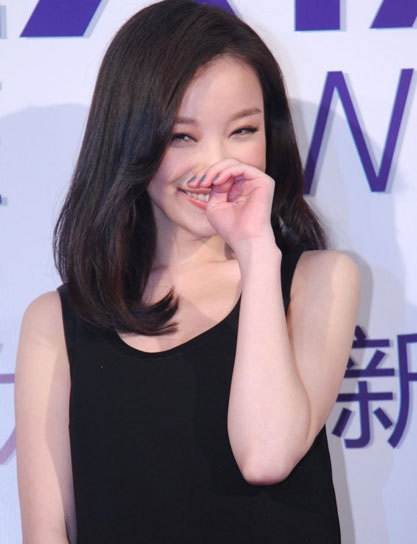face: (147, 54, 266, 239)
